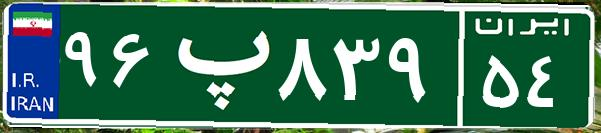3: (330, 28, 385, 110)
4: (525, 38, 570, 115)
5: (475, 38, 525, 113)
6: (110, 28, 158, 105)
8: (273, 28, 330, 110)
9: (385, 28, 445, 110), (57, 26, 110, 107)
پ: (158, 15, 273, 115)
